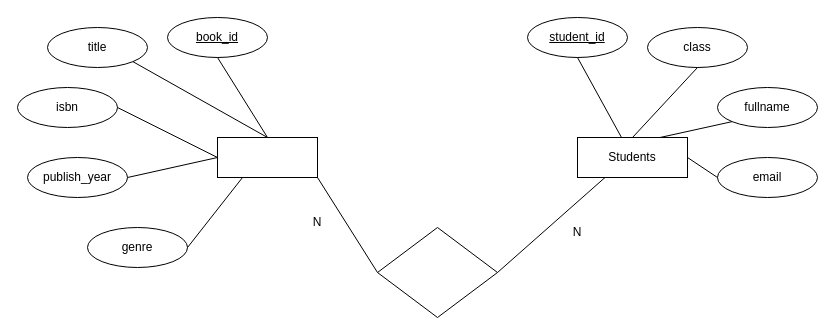
Image size: 835x335. Some labels were removed from this diagram. Each missing label, with the centre of its shape:
Books: the point at 267,157
Borrows: the point at 437,272
